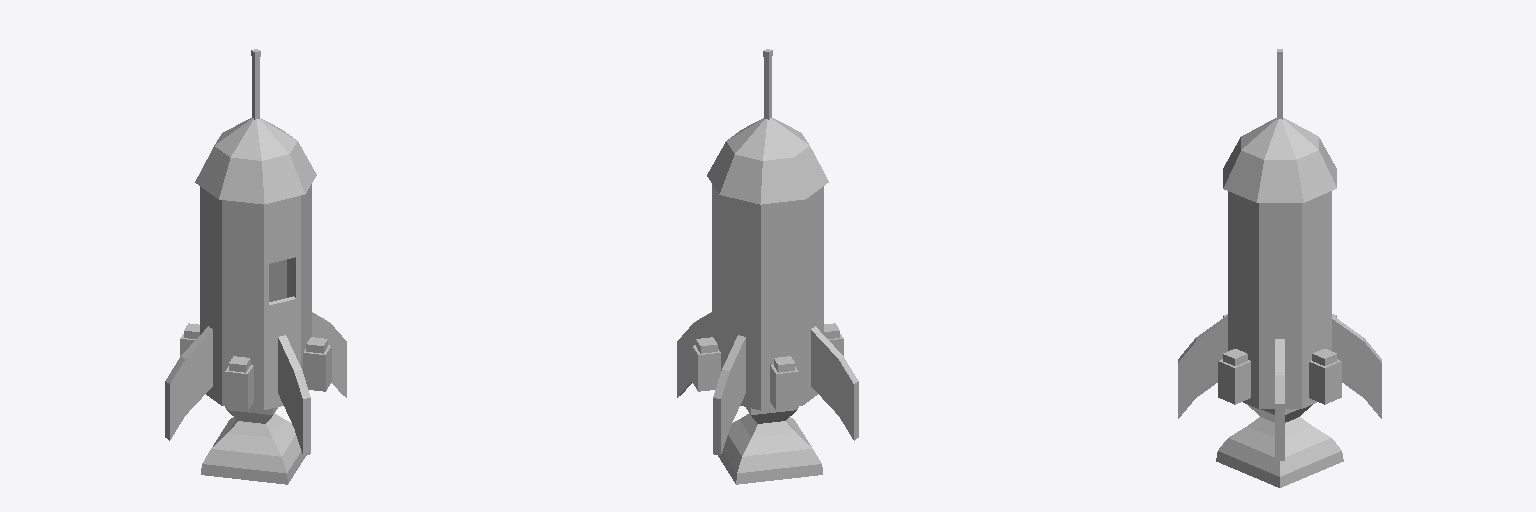
Rendered from tier3rocket.obj.
3 renders of one model, left to right at view 1: azimuth 30°, elevation 25°; view 2: azimuth 150°, elevation 25°; view 3: azimuth 270°, elevation 25°, orthographic.
Visible parts, largest first — view 1: Rocket, NoseCone, Boosters; view 2: Rocket, NoseCone, Boosters; view 3: Rocket, NoseCone, Boosters.
Boxes of the visible parts, <box> form: Rocket: <box>165,57,346,484</box>; NoseCone: <box>195,118,316,204</box>; Boosters: <box>180,323,331,410</box>; Rocket: <box>677,57,858,484</box>; NoseCone: <box>707,118,828,204</box>; Boosters: <box>692,323,843,410</box>; Rocket: <box>1178,58,1381,487</box>; NoseCone: <box>1223,118,1336,202</box>; Boosters: <box>1218,314,1341,404</box>.
Size of the model in its own units: 3.61 by 8.02 by 3.61.